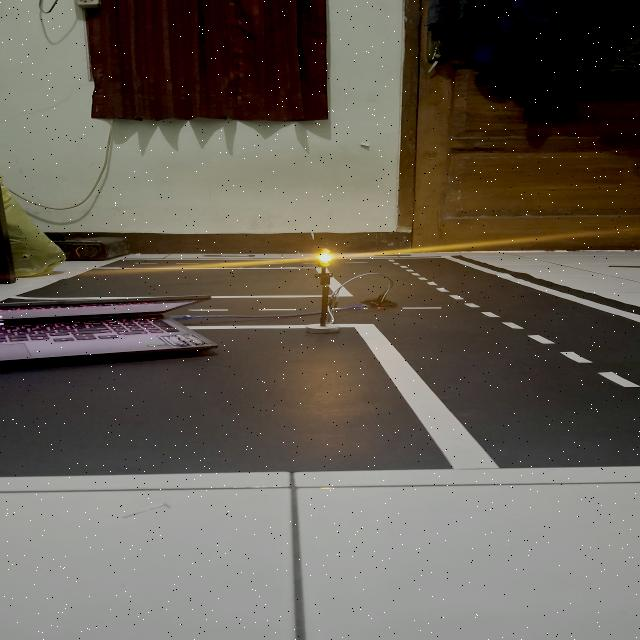Lampu Kuning: (317, 248, 333, 267)
